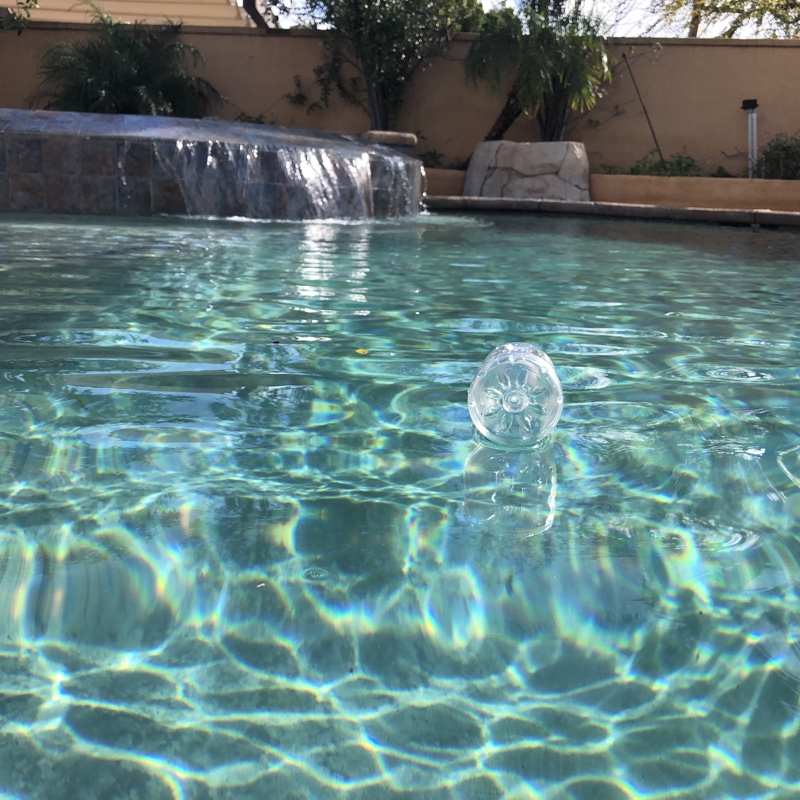Plastic Bottle: (462, 339, 568, 456)
